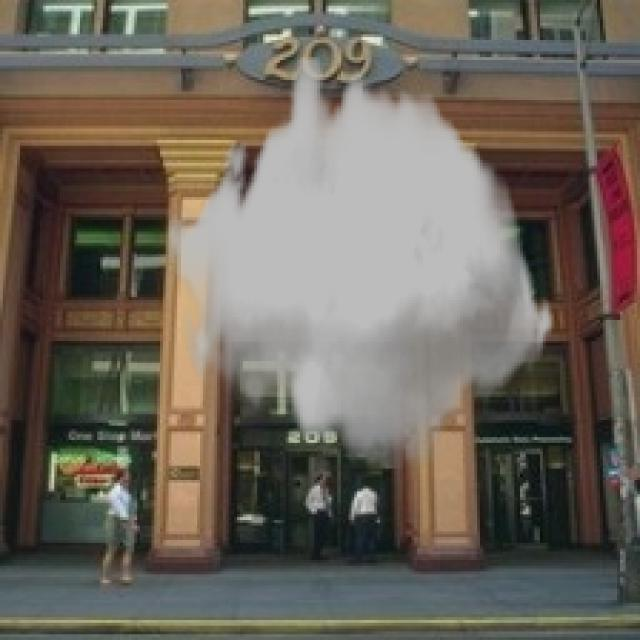smoke: (166, 57, 554, 469)
